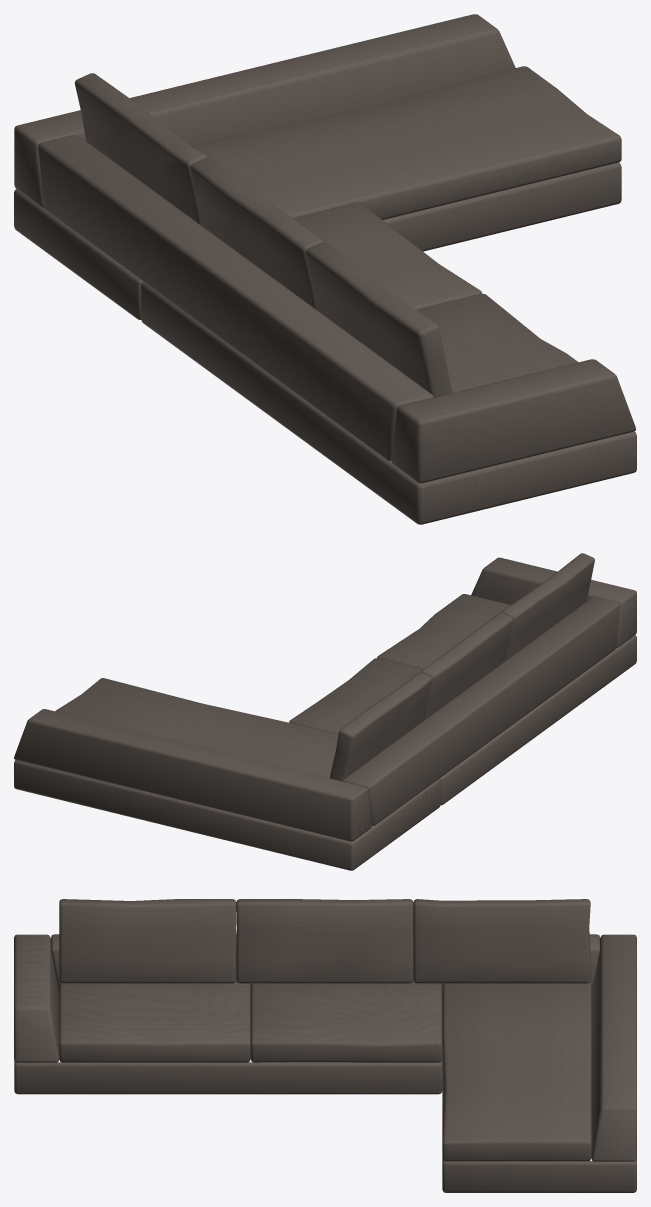
The model's file is sofa-1.glb.
3 renders of one model, top to bottom at view 1: azimuth 30°, elevation 25°; view 2: azimuth 150°, elevation 25°; view 3: azimuth 270°, elevation 25°, orthographic. The views are drawn at different scales.
Parts seen in each view (by area): view 1: Cylinder; view 2: Cylinder; view 3: Cylinder.
Part boxes in pixels (x1,y1,x2,y2): Cylinder: (14, 14, 636, 524); Cylinder: (14, 553, 636, 870); Cylinder: (14, 899, 636, 1192).
Bounding box in the file's own units: 4.4 × 1.5 × 6.4.
2 materials, 1 textured.
